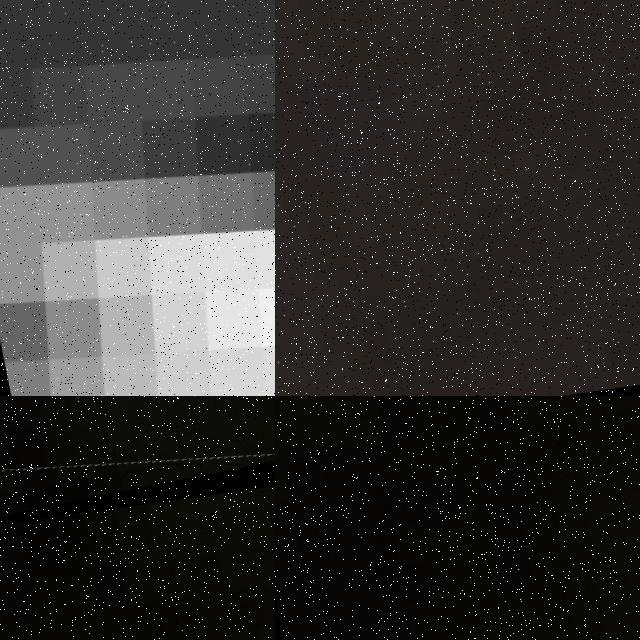drone: (0, 0, 275, 396), (0, 396, 275, 543)
